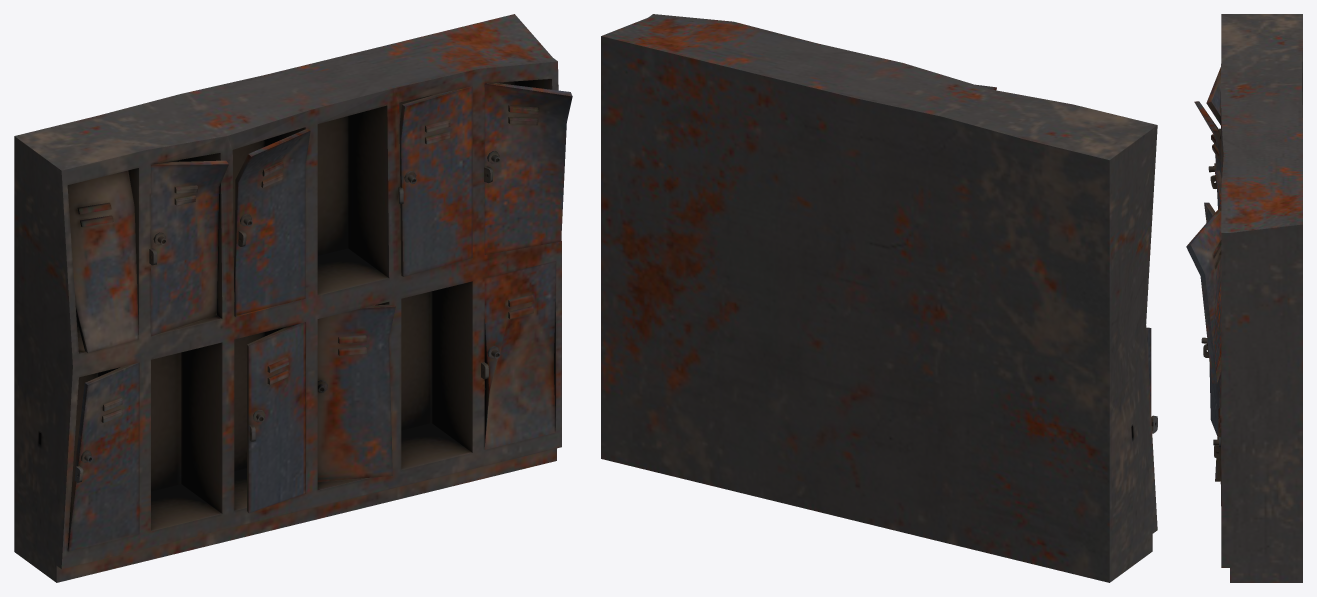
File: LockerSetBroken.FBX
The picture shows the model from 3 angles, left to right: view 1: azimuth 30°, elevation 25°; view 2: azimuth 150°, elevation 25°; view 3: azimuth 270°, elevation 25°; orthographic projection. The views are drawn at different scales.
Parts seen in each view (by area): view 1: LockerSetBroken; view 2: LockerSetBroken; view 3: LockerSetBroken.
Boxes of the visible parts, <box> form: LockerSetBroken: <box>14,14,572,582</box>; LockerSetBroken: <box>601,14,1157,582</box>; LockerSetBroken: <box>1186,14,1302,582</box>.
Bounding box in the file's own units: 250 × 199 × 58.54.
